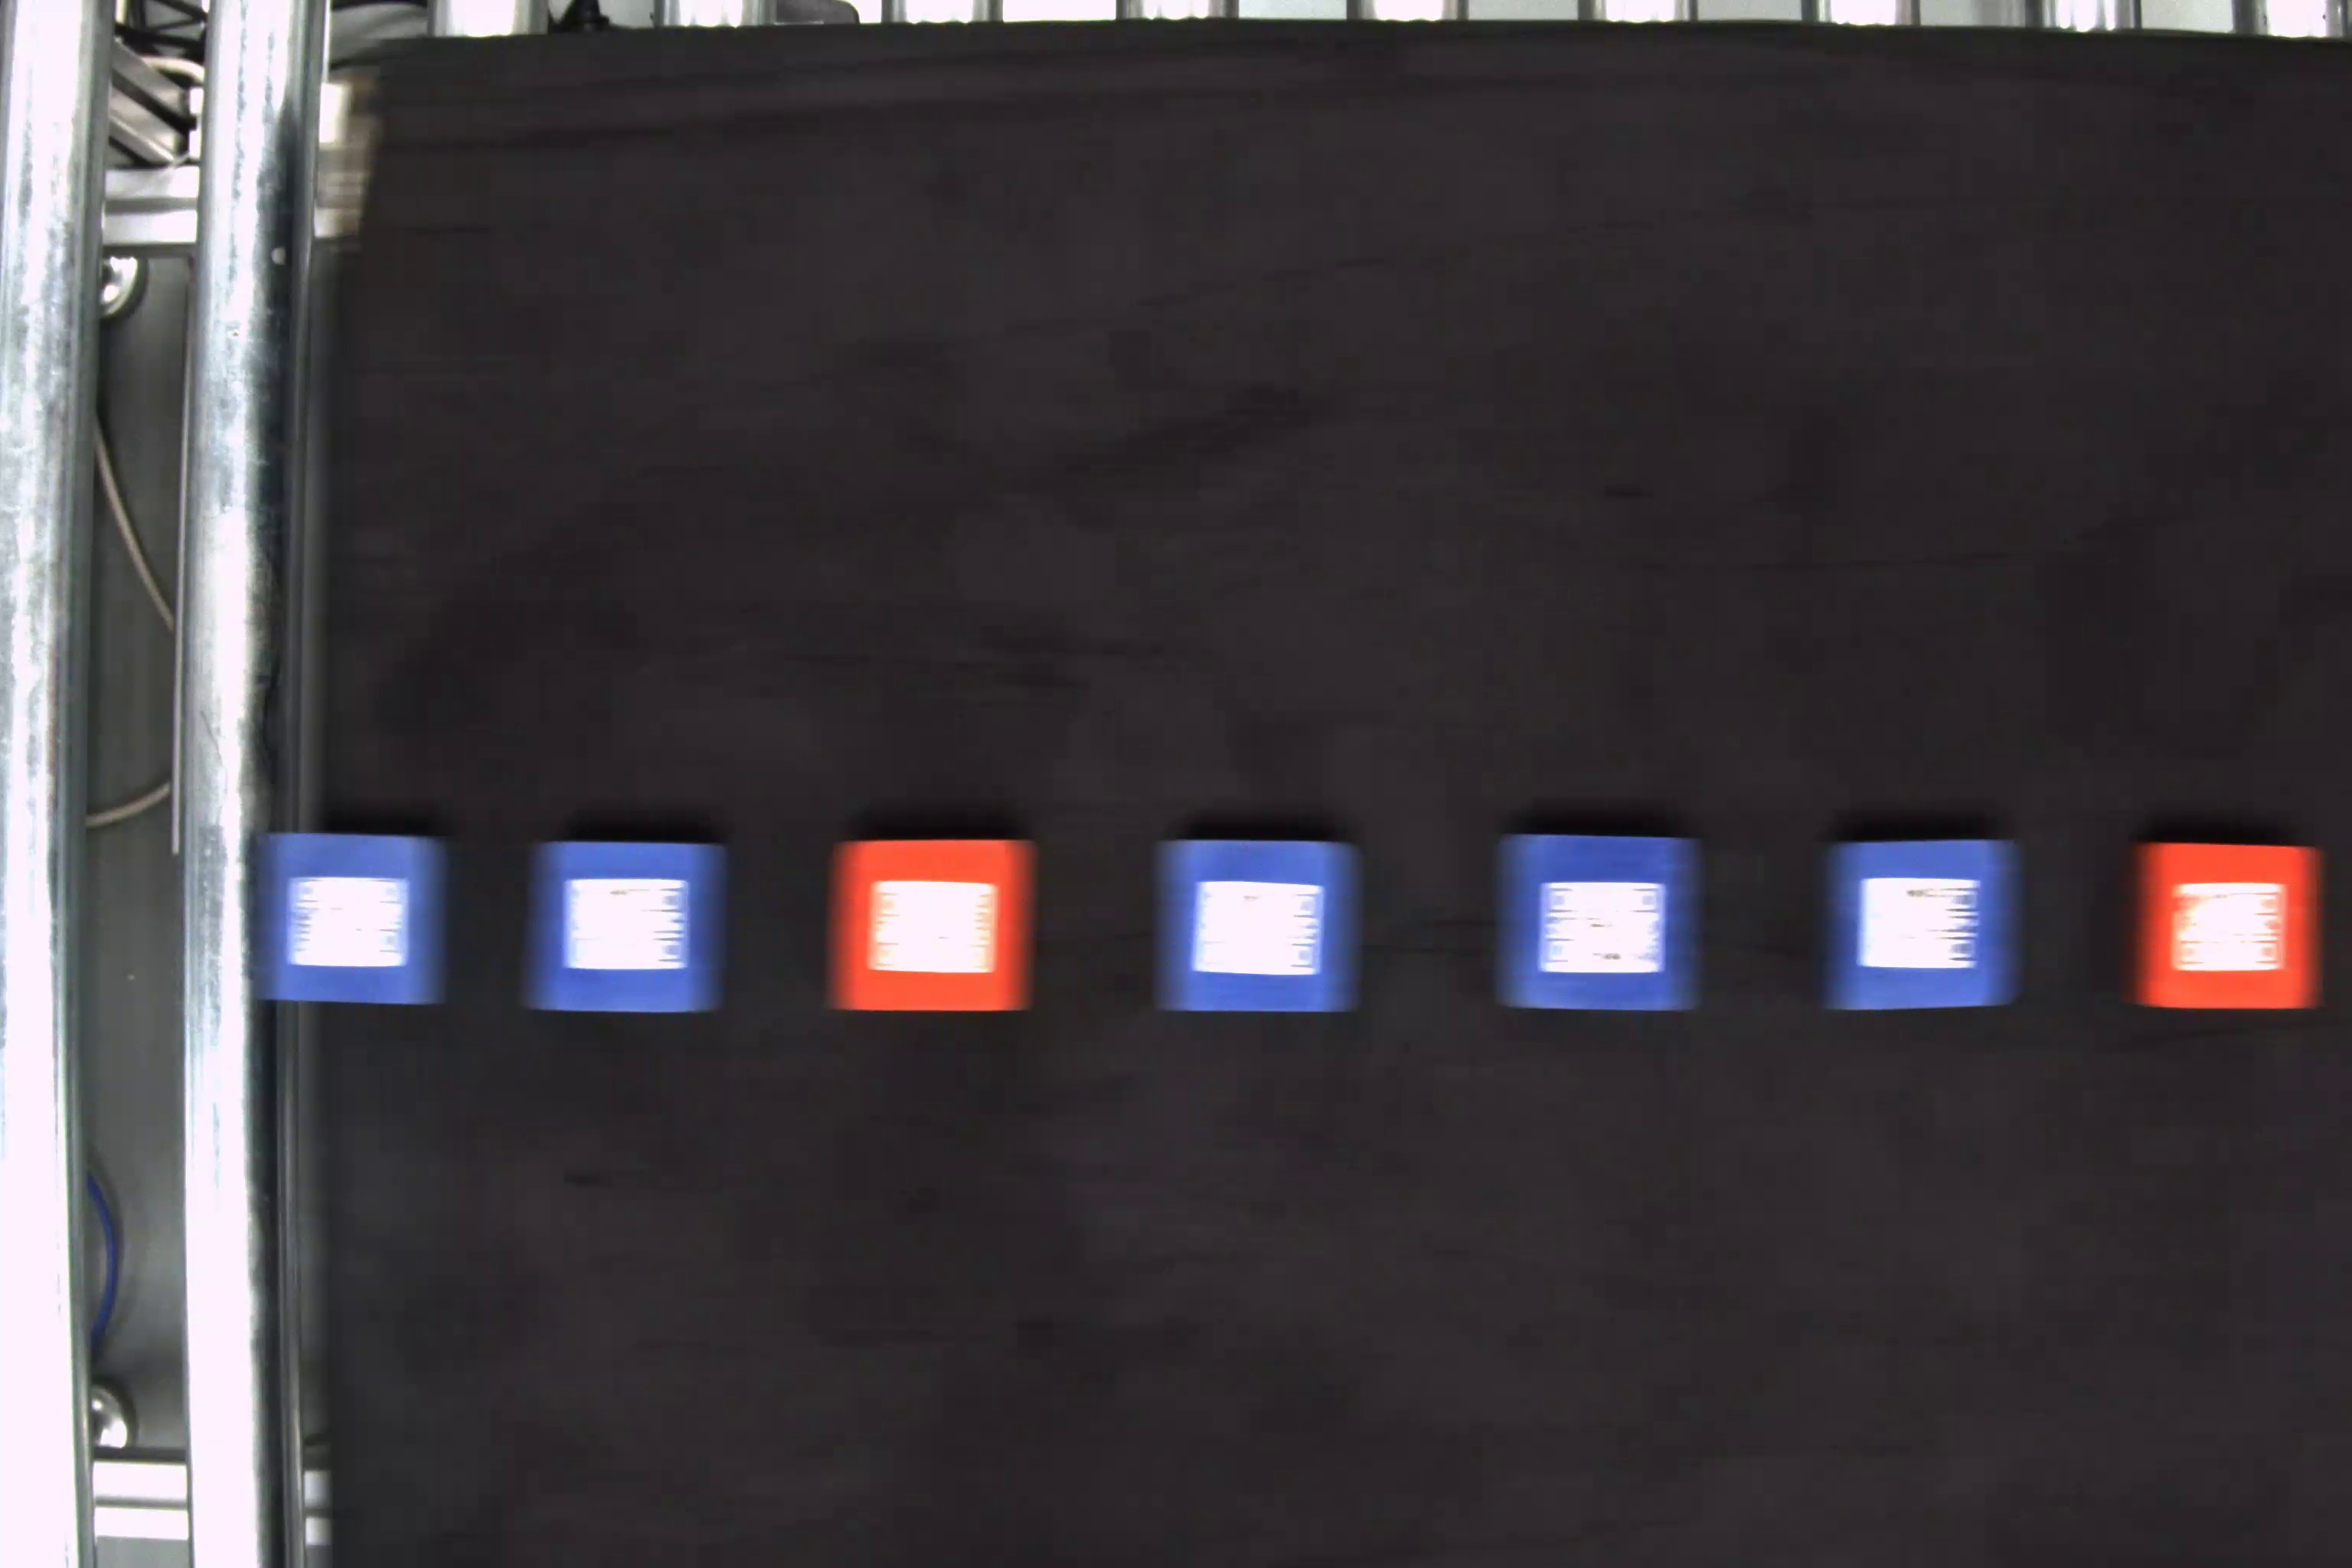wood: (250, 826, 450, 1015), (1498, 835, 1703, 1015), (831, 840, 1038, 1015), (527, 843, 728, 1017), (2126, 842, 2326, 1015), (1158, 842, 1360, 1013), (1825, 842, 2019, 1011)
